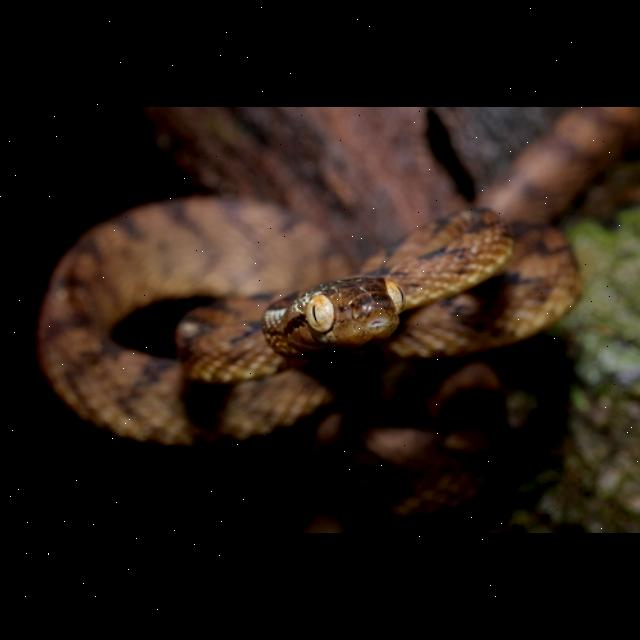snake: (31, 212, 596, 448)
